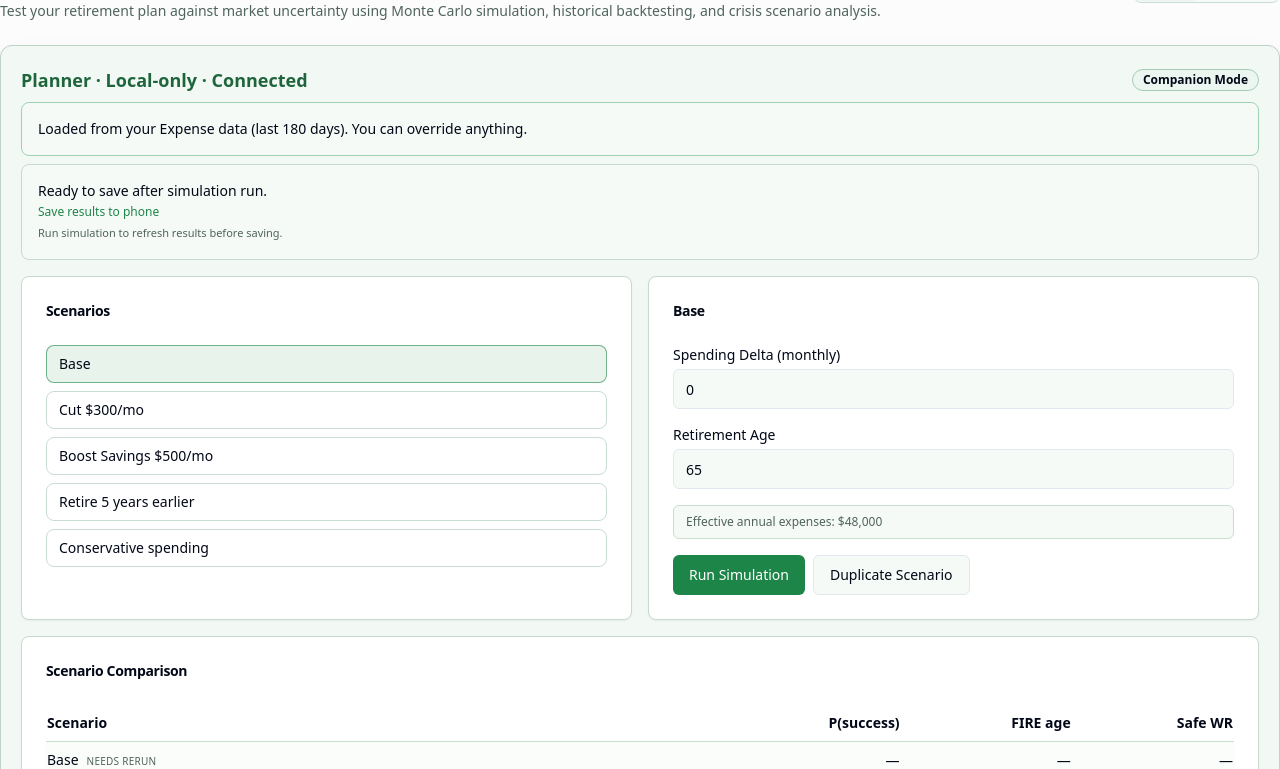
Scenario: StressTestPage companion orchestration › shows timeout message with partial results after 15 seconds
Click the button "Run Simulation". click: coordinates (739, 575)
box: top-left (673, 555), bottom-right (805, 595)
Wait 16000 ms
(page scrolled)
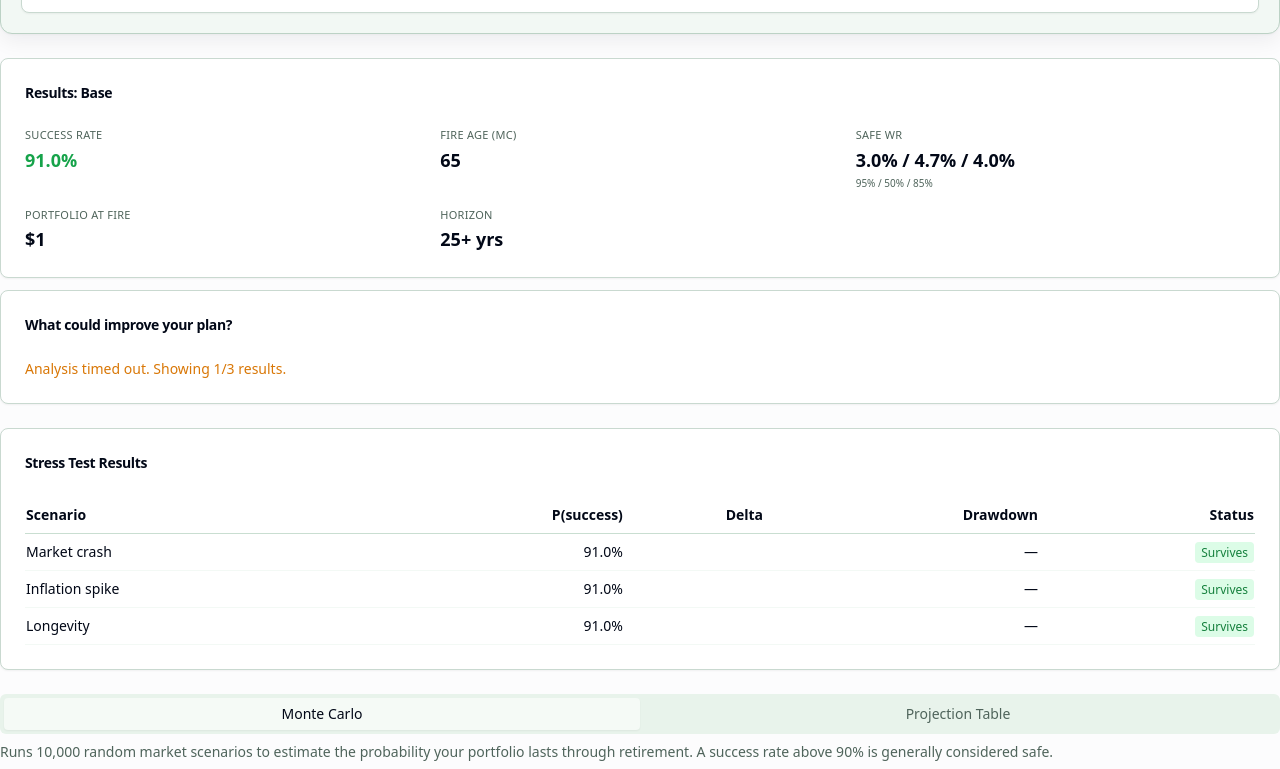
Expected: the text "Analysis timed out. Showing 1/3 results." is shown, top-left (25, 359), bottom-right (286, 378)
